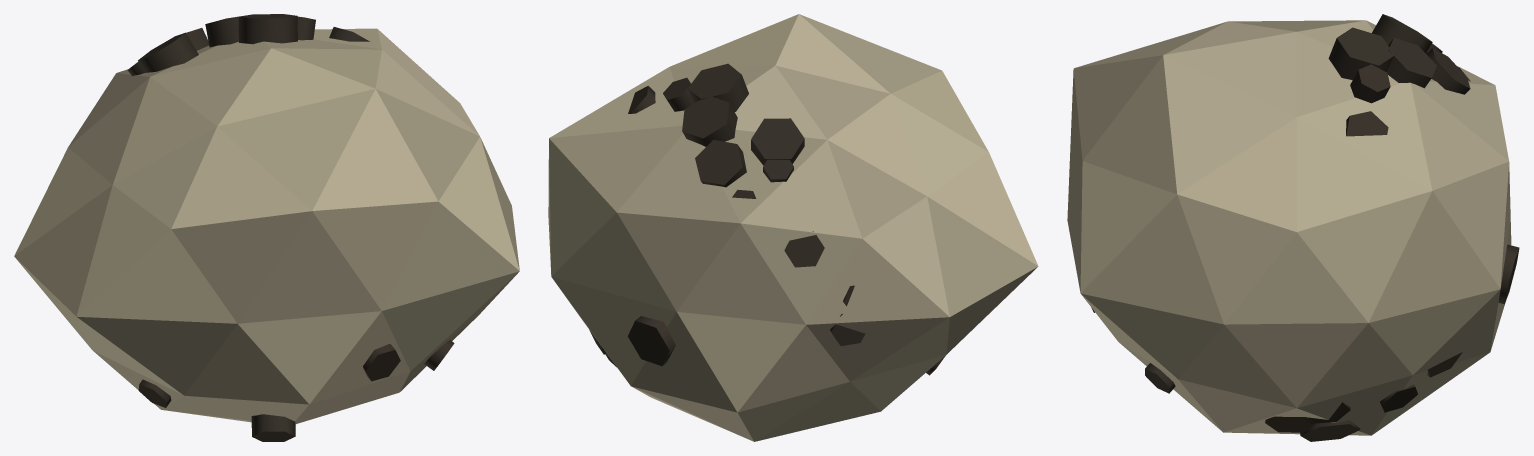
Rendered from floatstone.glb.
3 renders of one model, left to right at view 1: azimuth 30°, elevation 25°; view 2: azimuth 150°, elevation 25°; view 3: azimuth 270°, elevation 25°, orthographic. The views are drawn at different scales.
Visible parts, largest first — view 1: Mesh; view 2: Mesh; view 3: Mesh.
Part boxes in pixels (box(x1,y1,x2,y2)): Mesh: box(14, 14, 519, 441); Mesh: box(548, 14, 1038, 441); Mesh: box(1067, 14, 1519, 441).
Bounding box in the file's own units: 0.8529 × 0.7137 × 0.7311.
